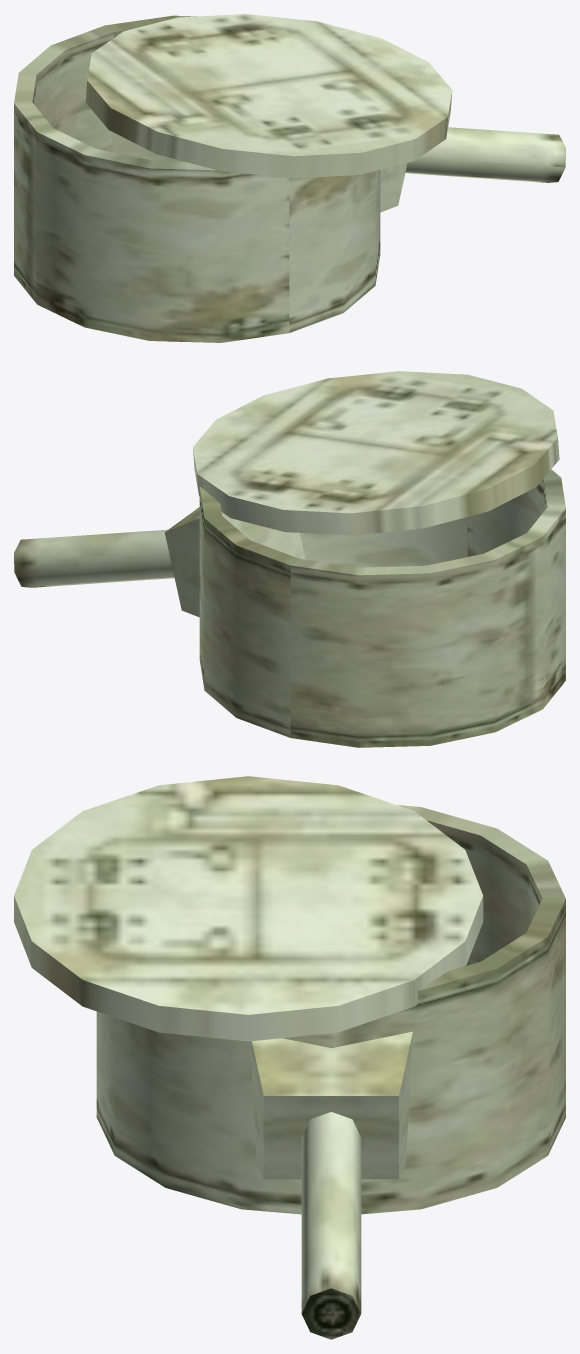
The model's file is wreck_turret.obj.
3 views of the same model, one above another, from view 1: azimuth 30°, elevation 25°; view 2: azimuth 150°, elevation 25°; view 3: azimuth 270°, elevation 25° (orthographic). The views are drawn at different scales.
Visible parts, largest first — view 1: Cylinder.002, Cylinder.004, Cylinder.003, Cube.016; view 2: Cylinder.002, Cylinder.004, Cylinder.003, Cube.016; view 3: Cylinder.004, Cylinder.002, Cube.016, Cylinder.003.
Part boxes in pixels (x1,y1,x2,y2): Cylinder.002: [14, 15, 380, 342]; Cylinder.004: [85, 14, 452, 178]; Cylinder.003: [405, 127, 565, 182]; Cube.016: [380, 163, 407, 212]; Cylinder.002: [199, 469, 565, 747]; Cylinder.004: [193, 371, 559, 535]; Cylinder.003: [14, 529, 174, 587]; Cube.016: [164, 507, 305, 617]; Cylinder.004: [14, 776, 483, 1041]; Cylinder.002: [96, 805, 565, 1214]; Cube.016: [250, 1031, 412, 1179]; Cylinder.003: [301, 1112, 361, 1339].
Size of the model in its own units: 2.4 by 0.9383 by 1.73.
Materials: 1 (1 with a texture image).
